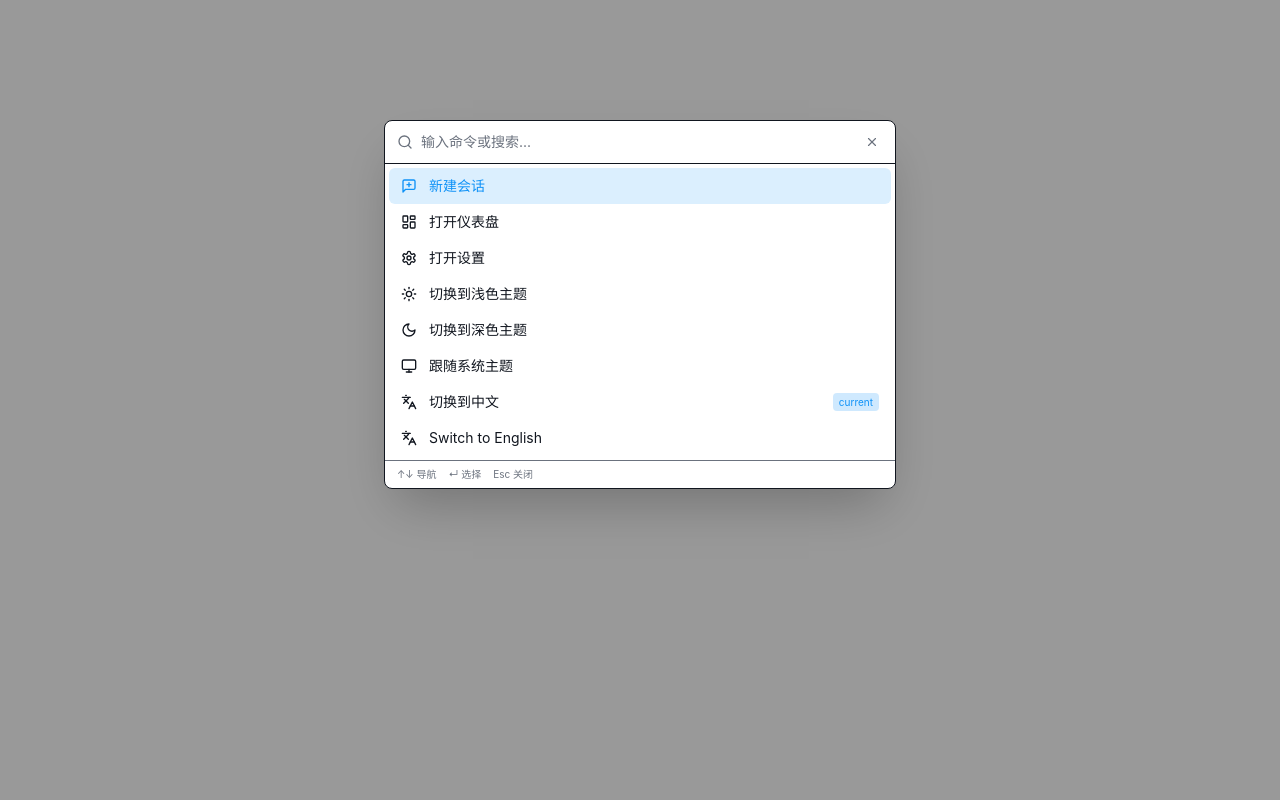
Test: CommandPalette › 无匹配时显示提示
The width and height of the screenshot is (1280, 800).
Type "zzzzzzz" into the field at (637, 142), box [421,132,853,152]
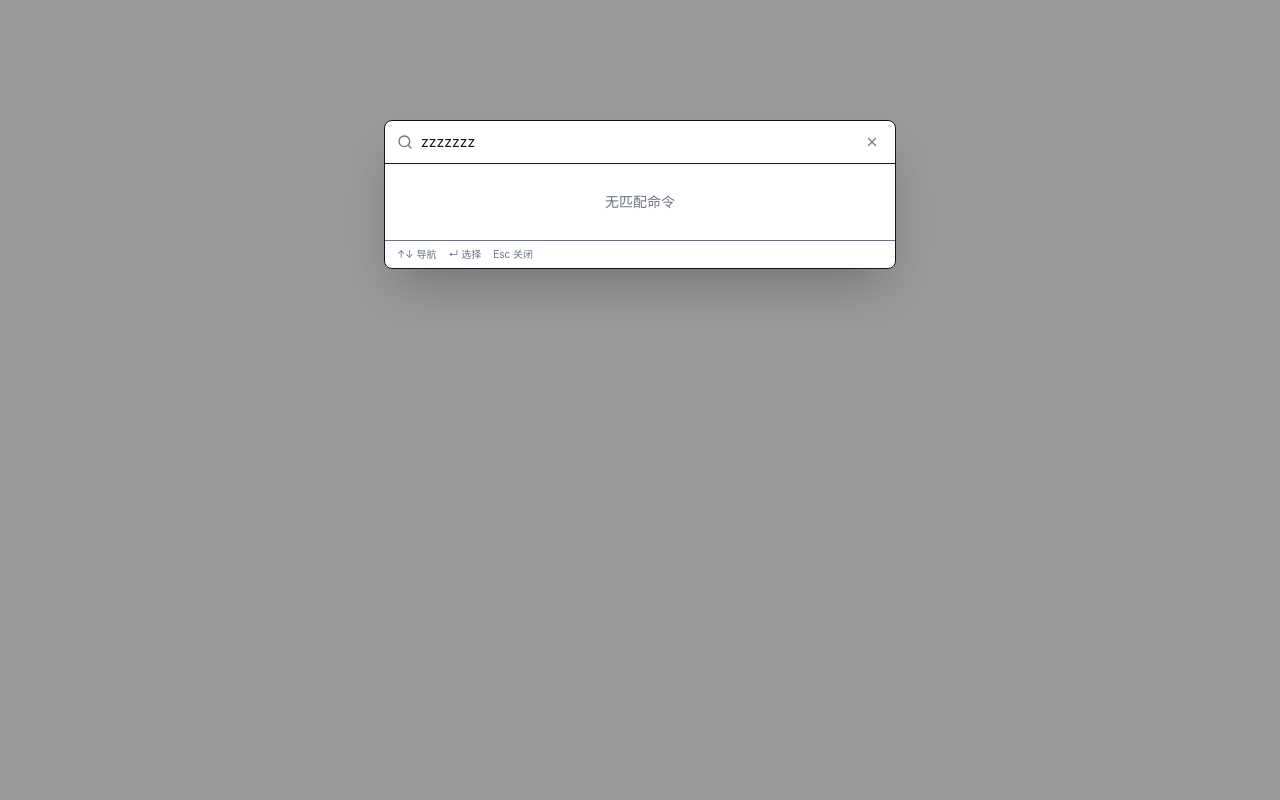
Result: the text "无匹配命令" is shown at [605,193,675,210]
